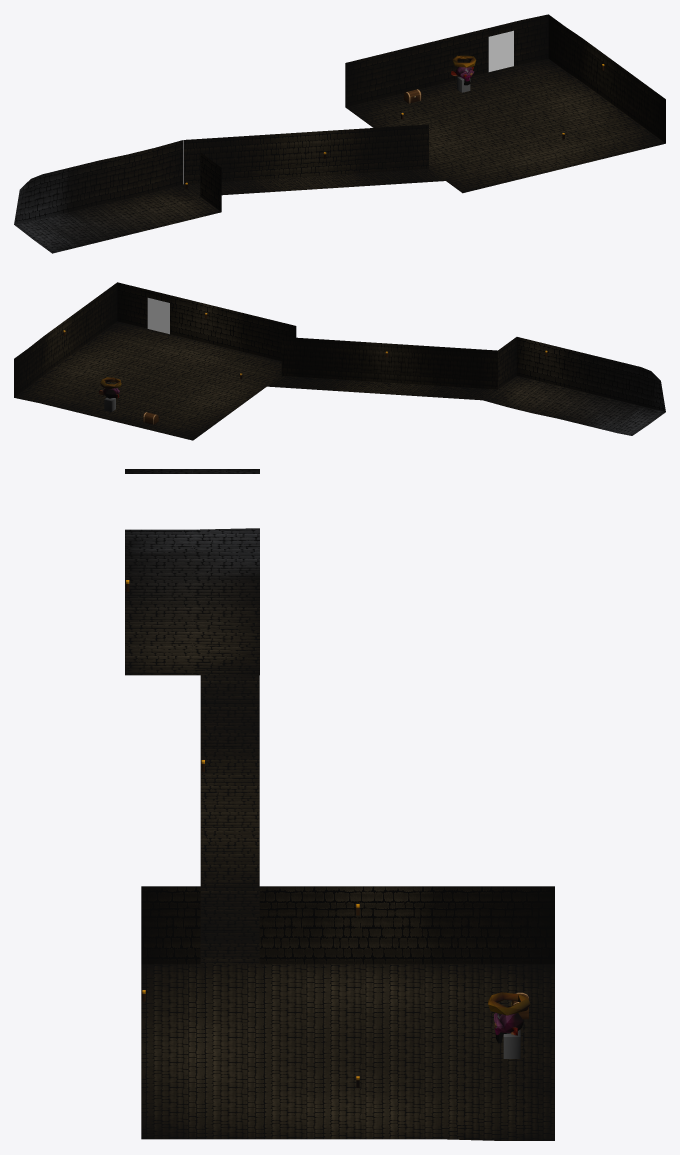
Rendered from dungeon.glb.
3 renders of one model, top to bottom at view 1: azimuth 30°, elevation 25°; view 2: azimuth 150°, elevation 25°; view 3: azimuth 270°, elevation 25°, orthographic. The views are drawn at different scales.
Parts seen in each view (by area): view 1: Main room, Exit room, Corridor, Plane; view 2: Main room, Exit room, Corridor, Plane.001; view 3: Main room, Exit room, Corridor.
Part boxes in pixels (box(x1,y1,x2,y2)): Main room: box(345, 14, 665, 193); Exit room: box(14, 140, 221, 253); Corridor: box(183, 124, 445, 195); Plane: box(488, 30, 513, 71); Main room: box(14, 282, 296, 440); Exit room: box(483, 337, 665, 435); Corridor: box(267, 337, 497, 400); Plane.001: box(147, 298, 169, 334); Main room: box(141, 886, 554, 1140); Exit room: box(125, 469, 259, 675); Corridor: box(200, 675, 259, 964).
Bounding box in the file's own units: 72.99 × 10.11 × 24.95.
2 materials, 2 textured.
